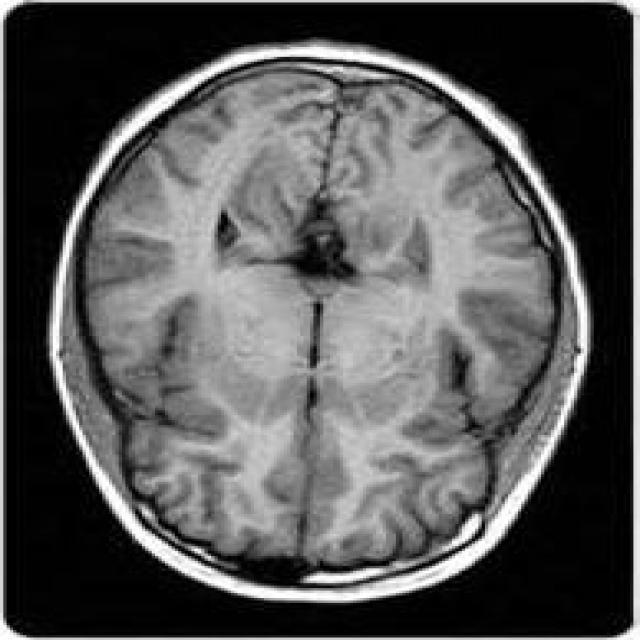notumor: (49, 42, 587, 600)
